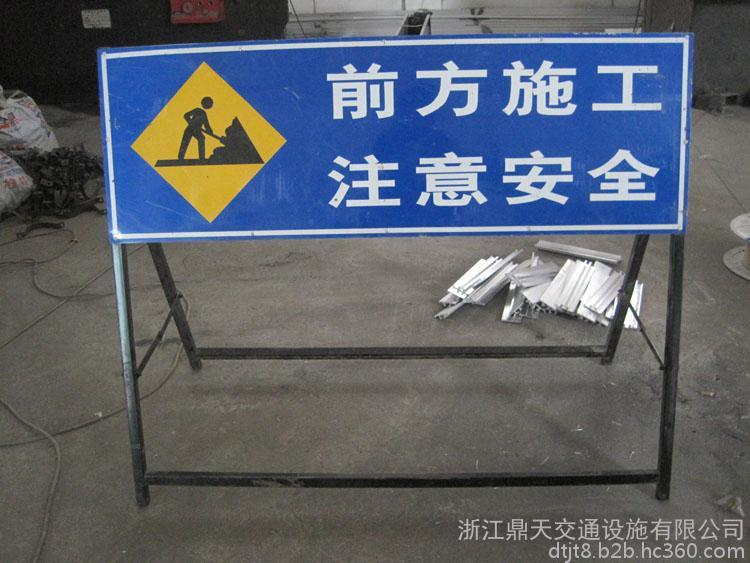sign: (101, 52, 686, 228)
